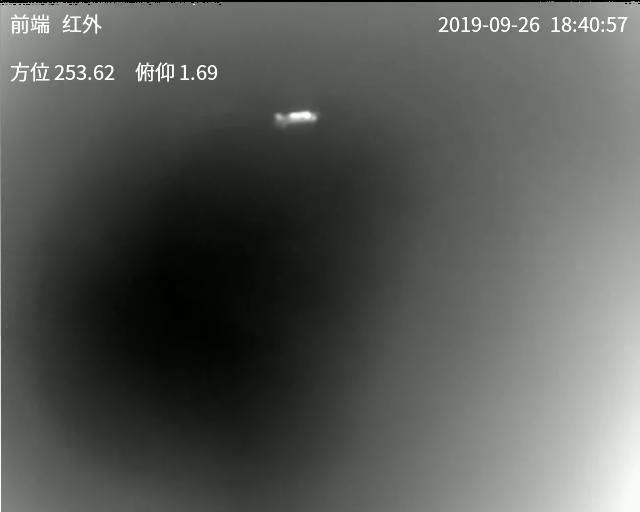uav: (266, 108, 324, 129)
